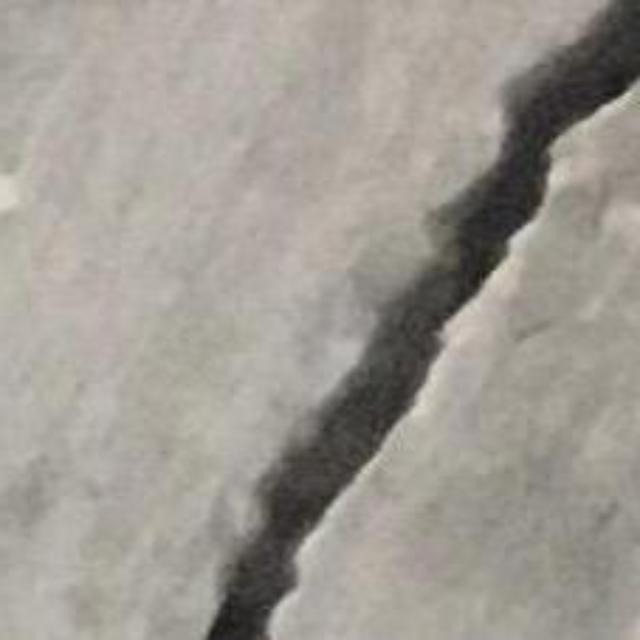crack: (205, 0, 639, 639)
